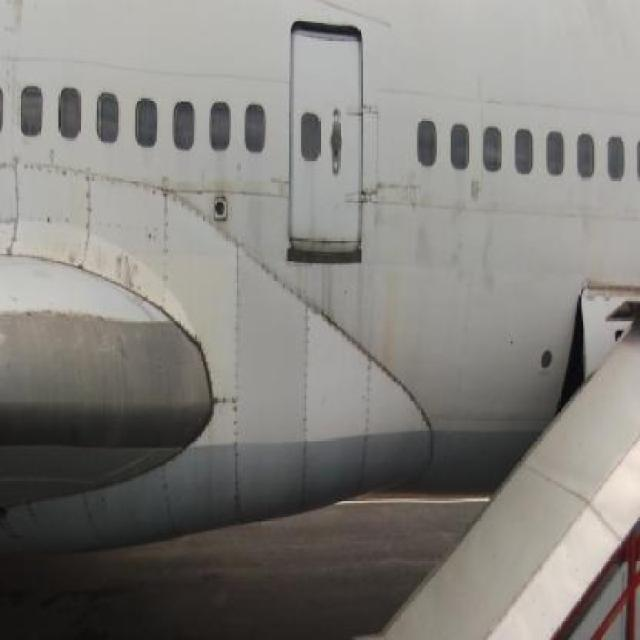Missing-Rivet: (75, 159, 98, 273), (158, 186, 178, 309), (7, 152, 25, 252), (212, 388, 238, 409)
Rust: (300, 255, 358, 332), (376, 255, 401, 376), (577, 264, 640, 302), (296, 217, 361, 251), (206, 152, 237, 194)
Scartch: (408, 204, 499, 298), (102, 240, 153, 298), (7, 2, 28, 52)
